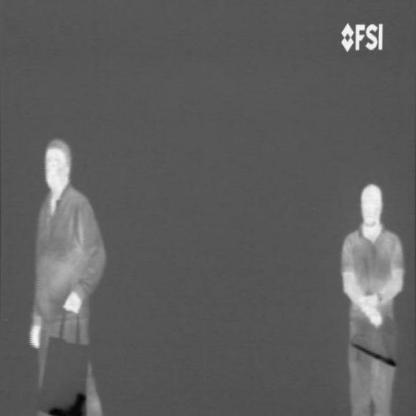weapon: (44, 387, 86, 416)
